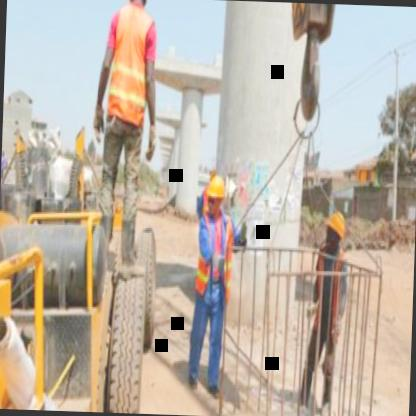helmet: (322, 206, 348, 256), (204, 171, 229, 222), (124, 0, 149, 8)
